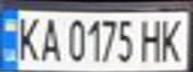0: (63, 16, 87, 62)
1: (84, 16, 103, 62)
5: (115, 16, 139, 63)
7: (100, 16, 118, 62)
A: (36, 14, 63, 63)
H: (136, 16, 166, 63)
K: (157, 15, 187, 63), (12, 14, 42, 62)
